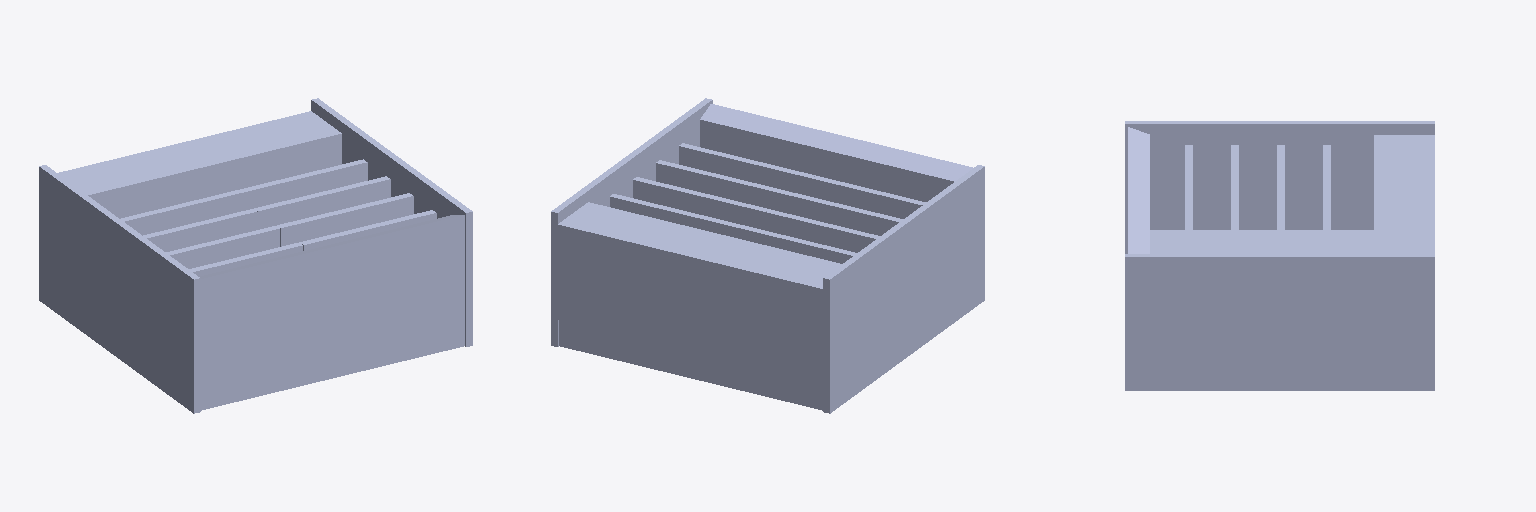
File: egg_shelf.obj
3 renders of one model, left to right at view 1: azimuth 30°, elevation 25°; view 2: azimuth 150°, elevation 25°; view 3: azimuth 270°, elevation 25°, orthographic.
Visible parts, largest first — view 1: shelf_collision; view 2: shelf_collision; view 3: shelf_collision.
Boxes of the visible parts, x1,y1,x2,y2 form: shelf_collision: [39, 98, 472, 413]; shelf_collision: [551, 98, 984, 413]; shelf_collision: [1125, 121, 1434, 390].
Size of the model in its own units: 2.1 by 0.9647 by 2.02.